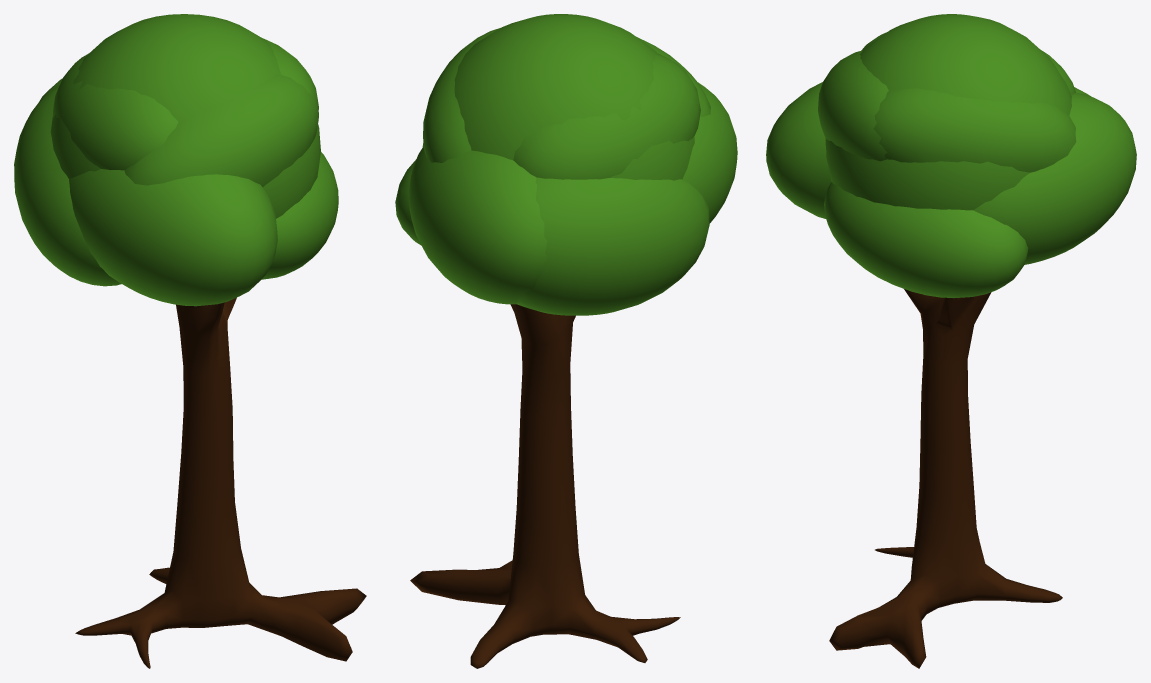
Rendered from arbre.fbx.
3 renders of one model, left to right at view 1: azimuth 30°, elevation 25°; view 2: azimuth 150°, elevation 25°; view 3: azimuth 270°, elevation 25°, orthographic. The views are drawn at different scales.
Visible parts, largest first — view 1: tronc; view 2: tronc; view 3: tronc.
Boxes of the visible parts, bbox=[...] form: tronc: bbox=[14, 14, 366, 668]; tronc: bbox=[395, 14, 737, 668]; tronc: bbox=[766, 14, 1136, 668].
Size of the model in its own units: 22.14 by 42.91 by 24.84.
